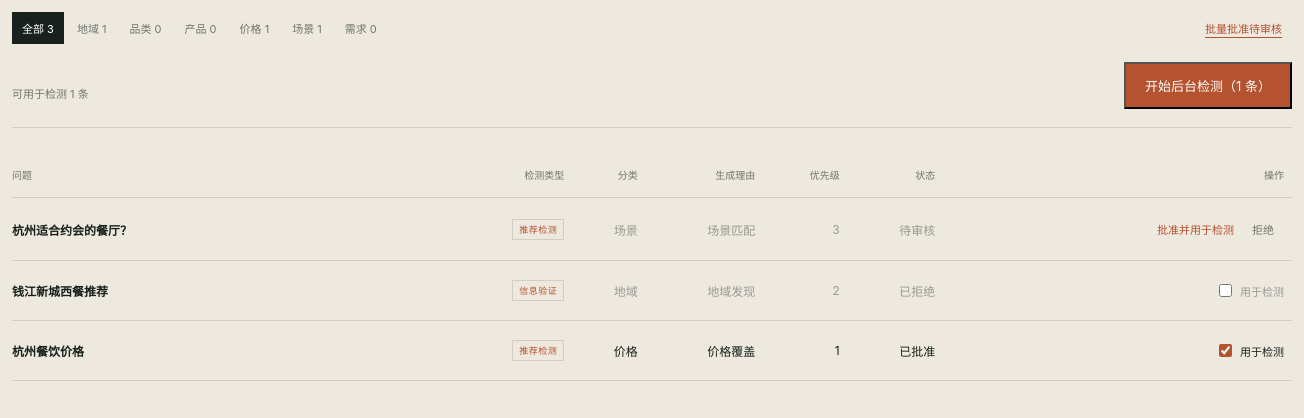
Scenario: query library workspace › saves text on blur and persists review actions
Replace the text in the field showing "杭州适合约会的餐厅？" with "杭州适合聚餐的餐厅？". click: [226, 229]
box: [12,214,439,244]
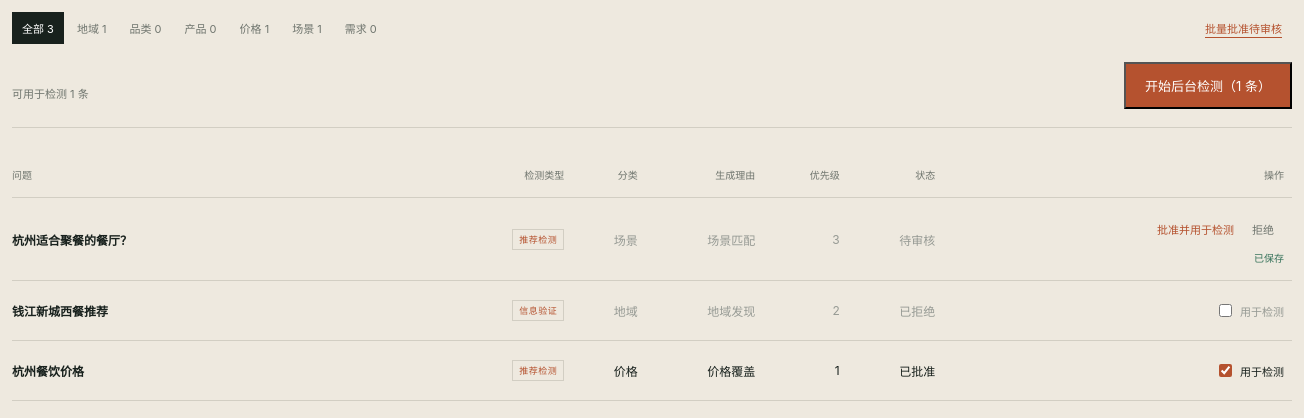
Click the button "批准并用于检测". click: [1200, 229]
box: [1157,213,1244,245]
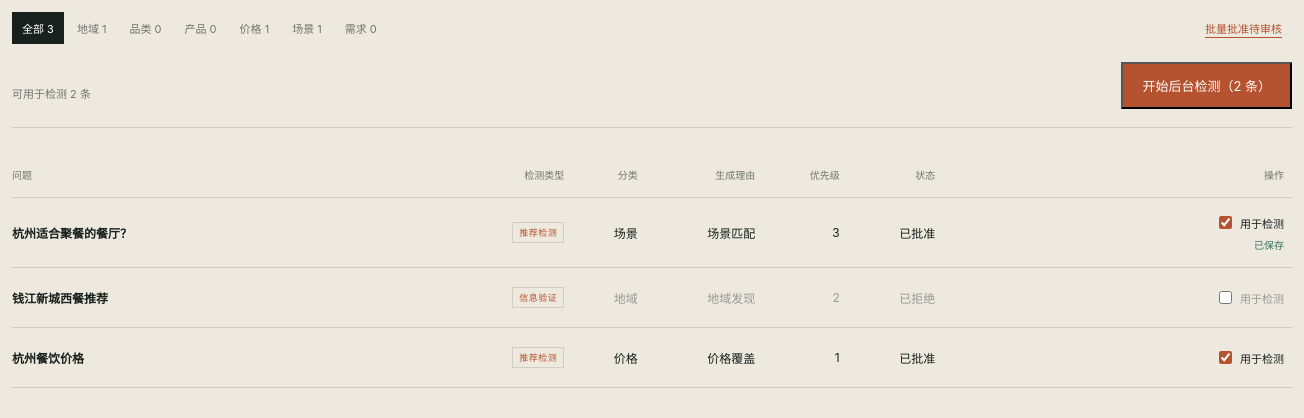
Now the text "已保存" is shown, box [1254,239,1284,251]
Now the text "可用于检测 2 条" is shown, box [12,84,91,100]
